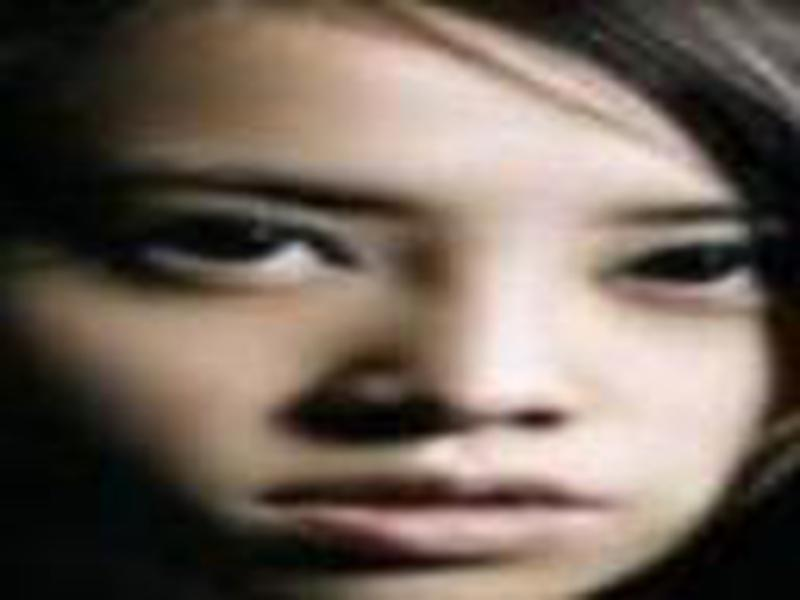without_mask: (40, 6, 772, 600)
